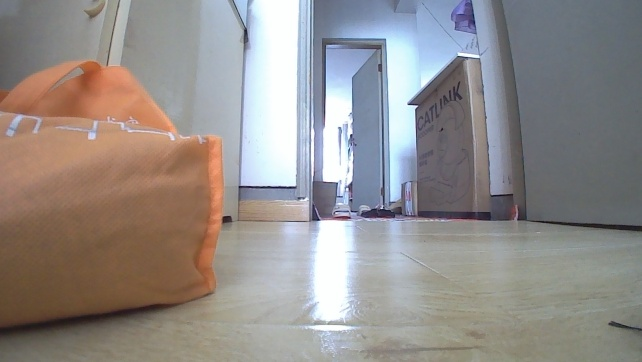door_anno: (349, 41, 388, 214)
